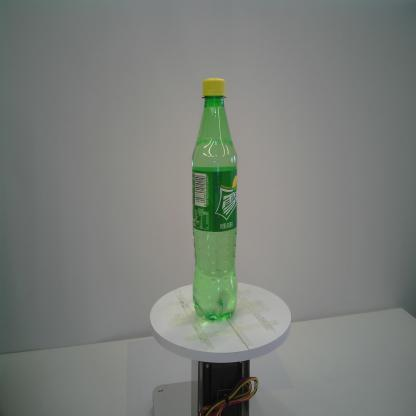Drink: (188, 76, 239, 324)
